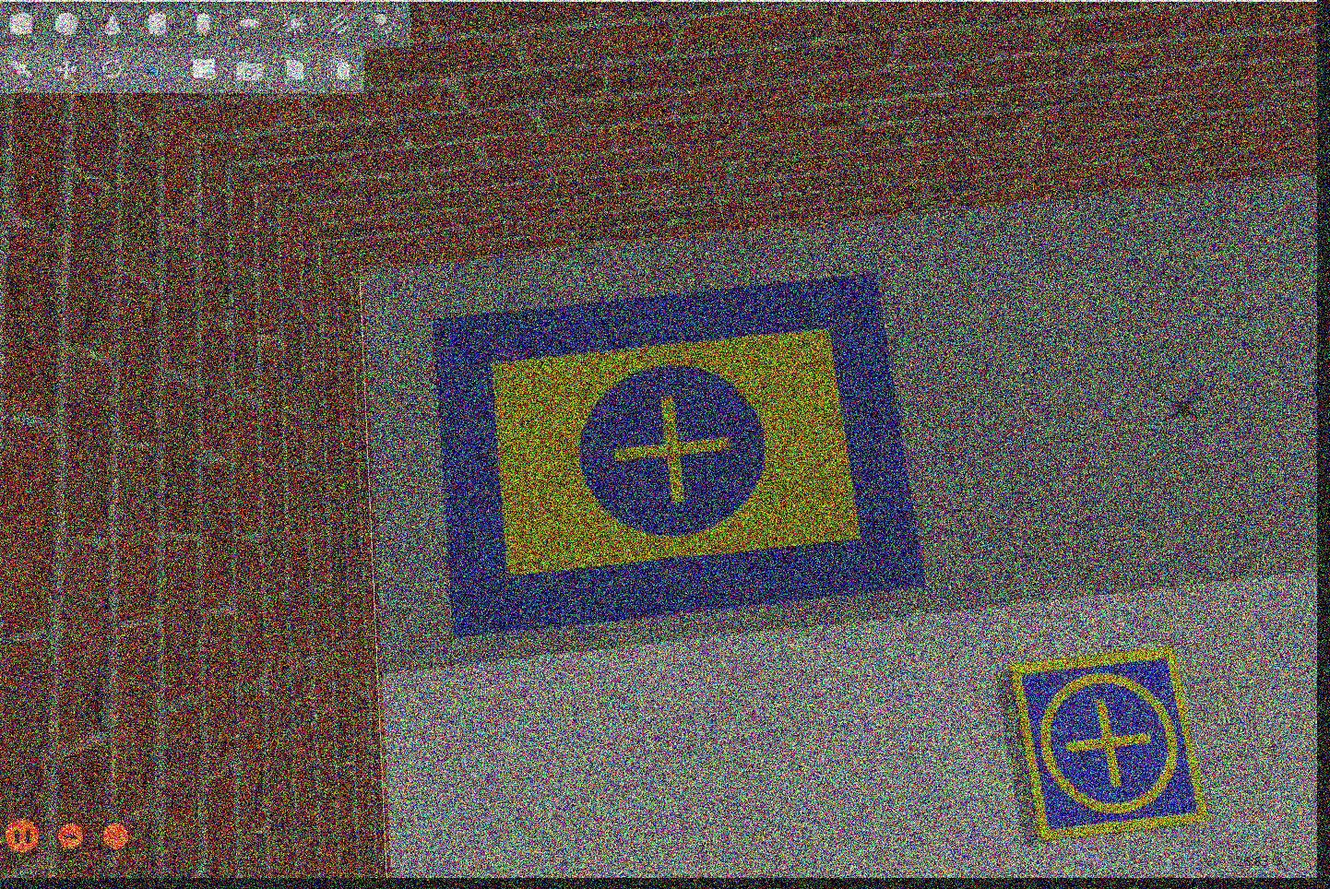large_base: (433, 275, 926, 641)
small_base: (1008, 648, 1214, 842)
